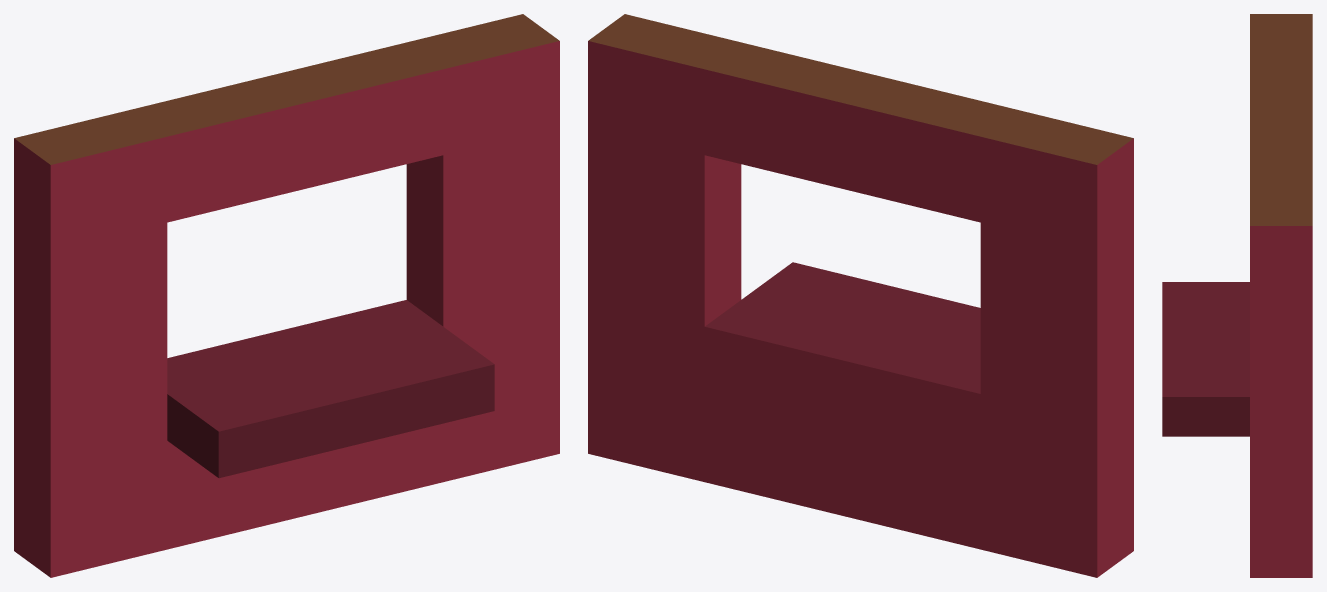
Rendered from Counter.fbx.
3 views of the same model, side by side, from view 1: azimuth 30°, elevation 25°; view 2: azimuth 150°, elevation 25°; view 3: azimuth 270°, elevation 25° (orthographic). The views are drawn at different scales.
Visible parts, largest first — view 1: Counter; view 2: Counter; view 3: Counter.
Boxes of the visible parts, bbox=[...] form: Counter: bbox=[14, 14, 559, 577]; Counter: bbox=[588, 14, 1133, 577]; Counter: bbox=[1162, 14, 1312, 577].
Size of the model in its own units: 400 by 310 by 120.
